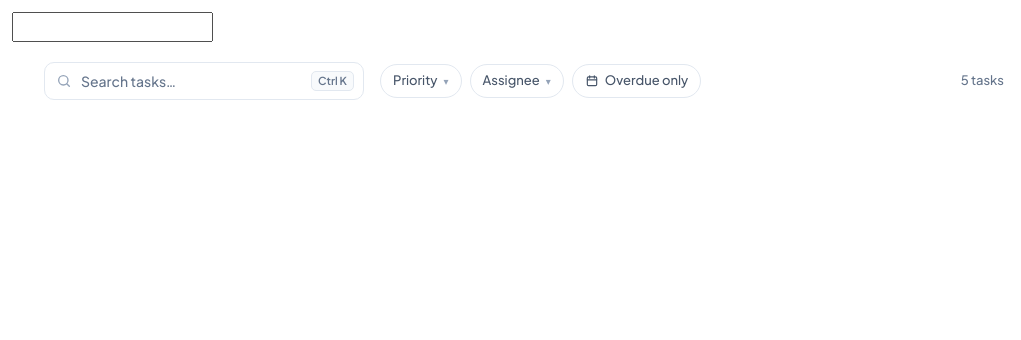
Test: FilterBar › filters by priority from the menu and shows the active count
The width and height of the screenshot is (1021, 340).
Step 1. Click the button "Priority ▾" → (421, 81), box [380, 64, 462, 98]
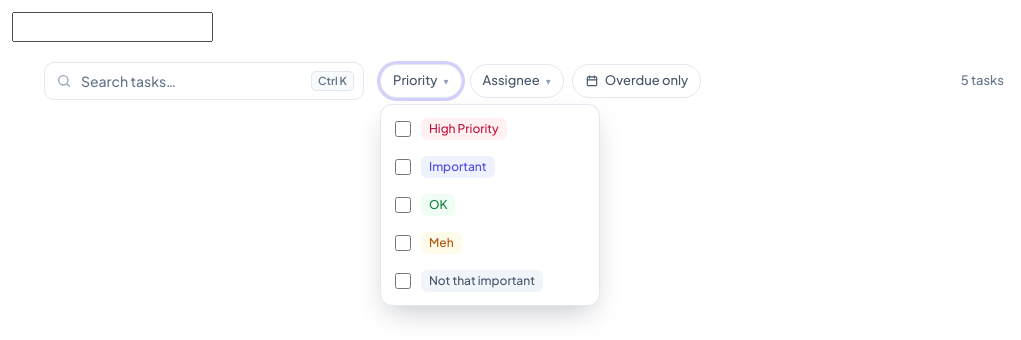
Step 2. Click the checkbox labelled "High Priority" → (403, 129), box [395, 121, 411, 137]
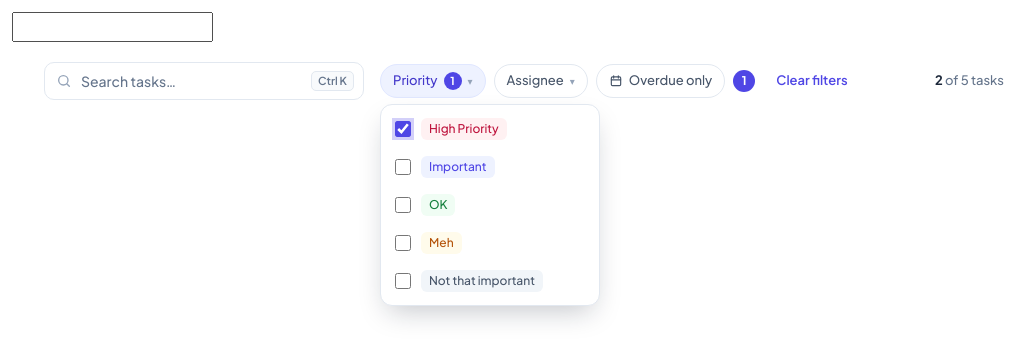
Expected: the text "2 of 5 tasks" is shown, [935, 71, 1004, 91]
Expected: the element titled "Active filters" reads "1", [742, 73, 747, 88]
